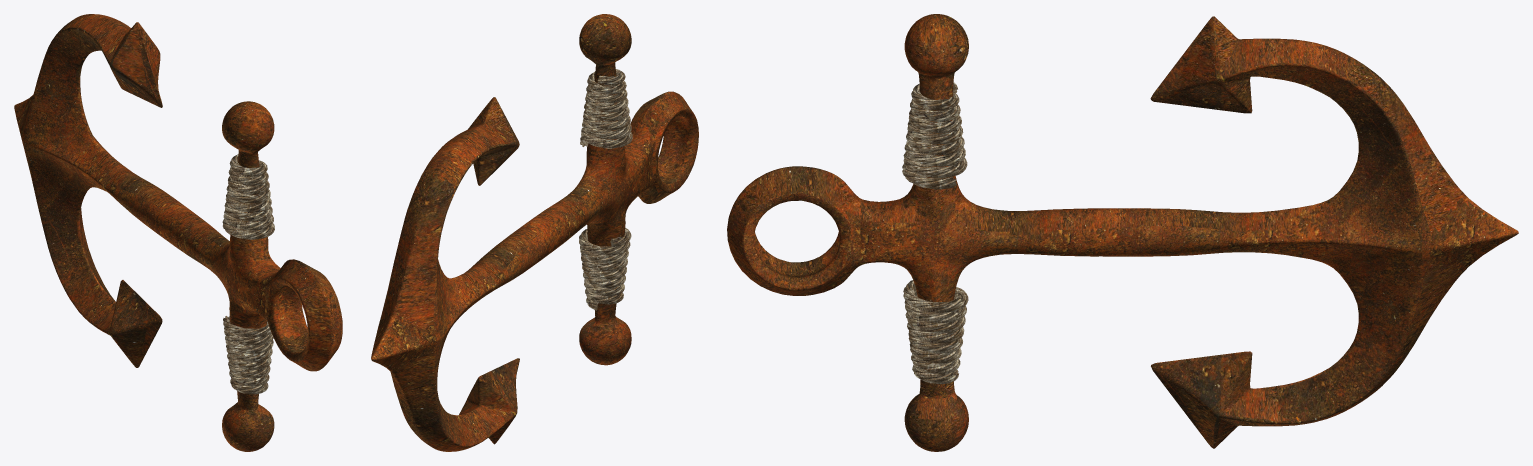
Rendered from Anchor_Decor N071223.obj.
3 renders of one model, left to right at view 1: azimuth 30°, elevation 25°; view 2: azimuth 150°, elevation 25°; view 3: azimuth 270°, elevation 25°, orthographic. The views are drawn at different scales.
Parts seen in each view (by area): view 1: Torus001, Cylinder003, Cylinder002; view 2: Torus001, Cylinder003, Cylinder002; view 3: Torus001, Cylinder003, Cylinder002.
Boxes of the visible parts, left/top/right/bottom form: Torus001: left=14, top=14, right=342, bottom=451; Cylinder003: left=222, top=154, right=274, bottom=239; Cylinder002: left=223, top=316, right=273, bottom=394; Torus001: left=371, top=14, right=698, bottom=451; Cylinder003: left=580, top=69, right=632, bottom=148; Cylinder002: left=579, top=228, right=631, bottom=310; Torus001: left=727, top=14, right=1518, bottom=451; Cylinder003: left=902, top=82, right=967, bottom=189; Cylinder002: left=903, top=280, right=968, bottom=383.
Bounding box in the file's own units: 219 × 1212 × 2008.
2 materials, 2 textured.
